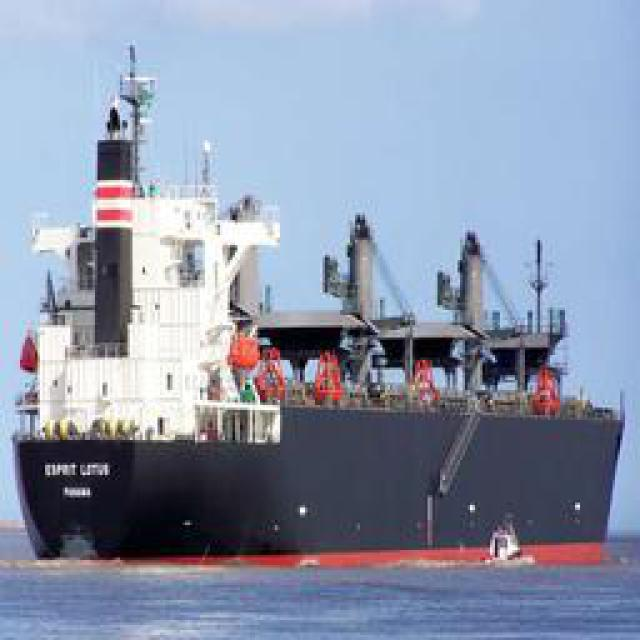Ship: (1, 28, 616, 576)
